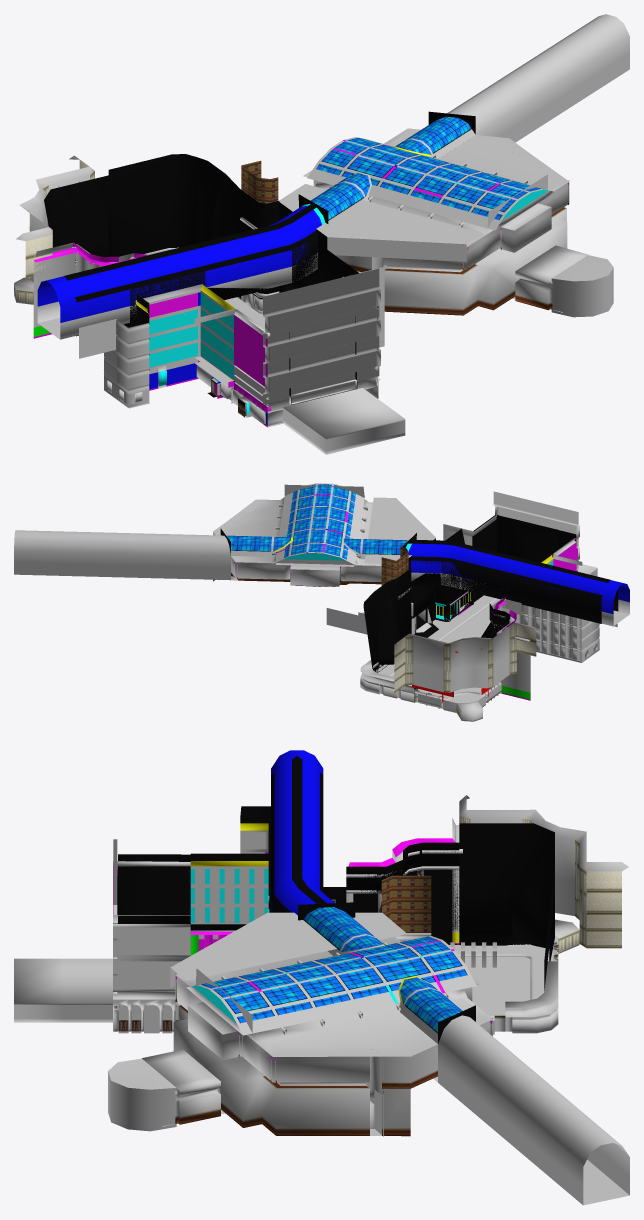
File: ssact2.obj
3 views of the same model, one above another, from view 1: azimuth 30°, elevation 25°; view 2: azimuth 150°, elevation 25°; view 3: azimuth 270°, elevation 25° (orthographic). The views are drawn at different scales.
Parts seen in each view (by area): view 1: object_00085060, object_00089B50, object_000BE050, object_0007EEA0, object_000A996C, object_00080514, object_000BE630, object_0007C644, object_000B59AC, object_00086EC0, object_0007FFC8, object_000B2190 (+24 smaller); view 2: object_00089B50, object_0009C814, object_00080514, object_000BE050, object_000A996C, object_0007C644, object_00085060, object_000B59AC, object_00086B50, object_0007F25C, object_000BE7A0, object_00093308 (+23 smaller); view 3: object_00085060, object_00089B50, object_000BE050, object_0007FFC8, object_0007C644, object_0009C814, object_000BE630, object_000B59AC, object_00086B50, object_000A996C, object_0007F7F0, object_000BBDAC (+28 smaller).
Part boxes in pixels (x1,y1,x2,y2): object_00085060: (313,180,569,315); object_00089B50: (447,14,629,142); object_000BE050: (307,137,552,230); object_0007EEA0: (108,154,207,256); object_000A996C: (121,203,325,319); object_00080514: (63,203,317,336); object_000BE630: (283,388,405,454); object_0007C644: (303,128,568,246); object_000B59AC: (279,184,482,244); object_00086EC0: (37,267,129,339); object_0007FFC8: (44,175,110,256); object_000B2190: (263,285,380,343); object_00089B50: (14,530,230,580); object_0009C814: (394,622,536,692); object_00080514: (408,539,618,623); object_000BE050: (275,483,364,564); object_000A996C: (406,543,568,595); object_0007C644: (213,497,381,570); object_00085060: (213,532,381,586); object_000B59AC: (364,497,435,563); object_00086B50: (226,535,408,559); object_0007F25C: (374,578,400,672); object_000BE7A0: (509,518,558,562); object_00093308: (520,604,581,660); object_00085060: (173,975,492,1136); object_00089B50: (438,1015,629,1204); object_000BE050: (198,936,476,1035); object_0007FFC8: (459,823,554,961); object_0007C644: (176,936,492,1056); object_0009C814: (459,795,628,948); object_000BE630: (14,958,112,1022); object_000B59AC: (170,912,406,980); object_00086B50: (303,907,462,1043); object_000A996C: (271,790,334,915); object_0007F7F0: (118,854,190,914); object_000BBDAC: (142,1049,220,1124).
Bounding box in the file's own units: 1334 × 246 × 871.
